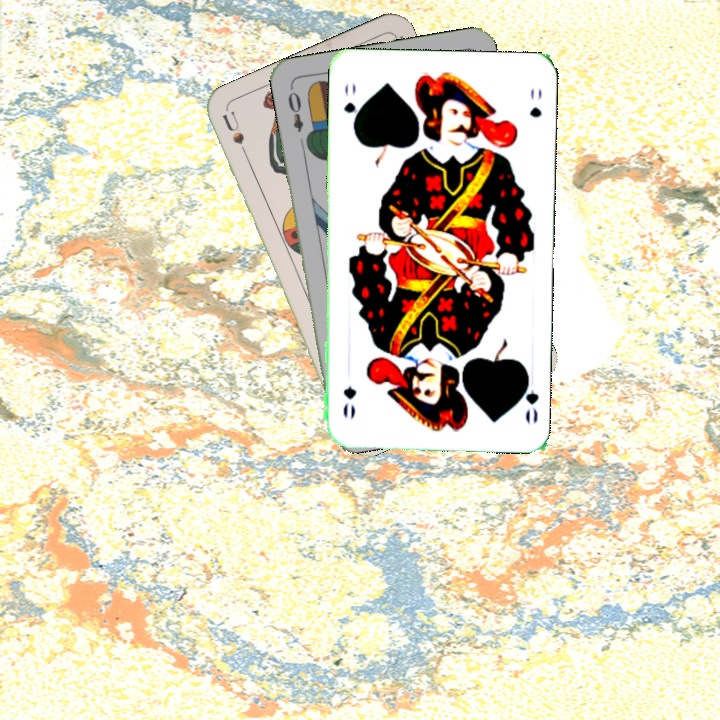EO: (283, 83, 306, 135)
GO: (514, 367, 542, 427), (340, 79, 362, 133)
SU: (218, 108, 253, 166)
